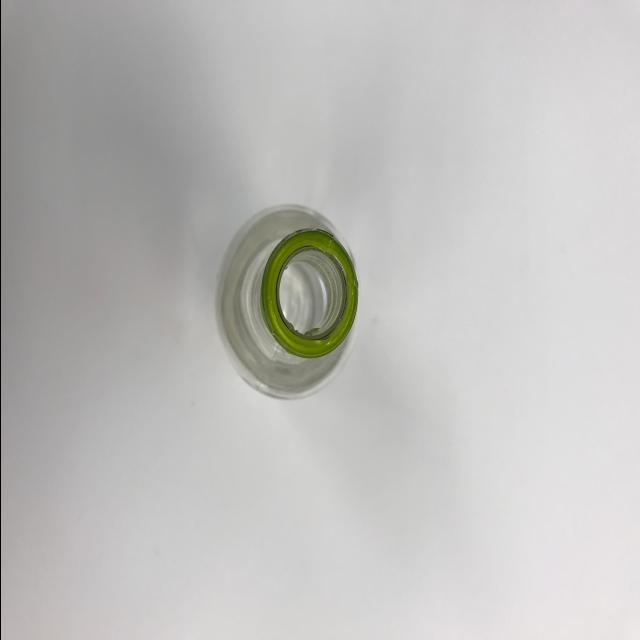glass: (198, 182, 371, 432)
